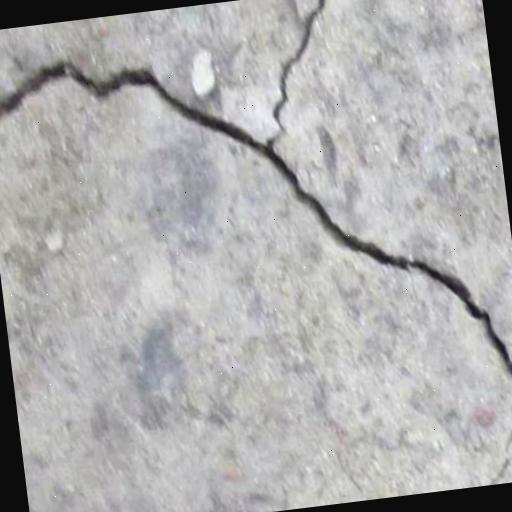spalling: (0, 0, 512, 386)
